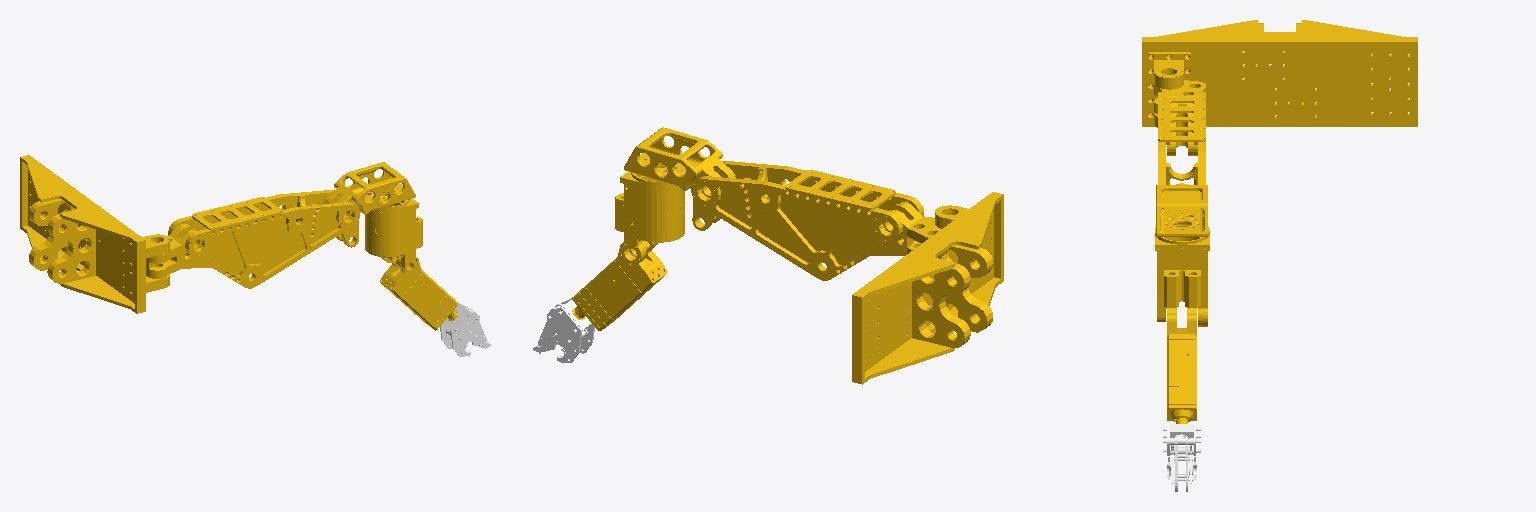
URDF robot description (manipulator_2):
<?xml version="1.0" ?>
<!-- =================================================================================== -->
<!-- |    This document was autogenerated by xacro from manipulator.xacro              | -->
<!-- |    EDITING THIS FILE BY HAND IS NOT RECOMMENDED                                 | -->
<!-- =================================================================================== -->
<robot name="manipulator_2">

  <link name="world"/>
  <joint name="world_joint" type="fixed">
    <parent link="world"/>
    <child link="base_link"/>
    <origin rpy="0.0 0.0 0.0" xyz="0.0 0.0 1.0"/>
  </joint>

  <material name="orange">
    <color rgba="1 0.8 0.1 1"/>
  </material>

  <!-- Base Link -->
  <link name="base_link">
    <collision>
      <origin rpy="0 -1.5707963267948966 0" xyz="0 0 0"/>
      <geometry>
        <mesh filename="package://moveit_resources_manipulator_2_description/meshes/original/base_link.stl"/>
      </geometry>
    </collision>
    <visual>
      <origin rpy="0 -1.5707963267948966 0" xyz="0 0 0"/>
      <geometry>
        <mesh filename="package://moveit_resources_manipulator_2_description/meshes/original/base_link.stl"/>
      </geometry>
      <material name="orange"/>
    </visual>
    <inertial>
      <origin rpy="0 -1.57 0" xyz="0 0 0.4"/>
      <mass value="5.7"/>
      <inertia ixx="0.13" ixy="0.0" ixz="0" iyy="0.012" iyz="0.0" izz="0.12"/>
    </inertial>
  </link>
  <!-- joint1 -->
  <joint name="j1" type="revolute">
    <parent link="base_link"/>
    <child link="l1"/>
    <origin rpy="0 -1.5707963267948966 0" xyz="0 0 0"/>
    <axis xyz="1 0 0"/>
    <limit effort="3000" lower="-0.47123889803846897" upper="0.6911503837897545" velocity="1.0"/>
    <dynamics damping="0.5" friction="120"/>
  </joint>

  <!-- camera_joint -->
  <joint name="jc" type="fixed">
    <parent link="base_link"/>
    <child link="camera"/>
    <origin rpy="-1.5707963267948966 0 -1.5707963267948966" xyz="0.0 0.3 -0.1"/>
  </joint>

  <!-- link_camera -->
  <link name="camera">
    <collision>
      <origin rpy="0 0 0" xyz="0 0 0"/>
      <geometry>
        <mesh filename="package://moveit_resources_manipulator_2_description/meshes/original/L515.stl"/>
      </geometry>
    </collision>
    <visual>
      <origin rpy="0 0 0" xyz="0 0 0"/>
      <geometry>
        <mesh filename="package://moveit_resources_manipulator_2_description/meshes/original/L515.stl"/>
      </geometry>
      <material name="orange"/>
    </visual>
  </link>

  <!-- link1 -->
  <link name="l1">
    <collision>
      <origin rpy="0 0 0" xyz="0 0 0"/>
      <geometry>
        <mesh filename="package://moveit_resources_manipulator_2_description/meshes/original/l1.stl"/>
      </geometry>
    </collision>
    <visual>
      <origin rpy="0 0 0" xyz="0 0 0"/>
      <geometry>
        <mesh filename="package://moveit_resources_manipulator_2_description/meshes/original/l1.stl"/>
      </geometry>
      <material name="orange"/>
    </visual>
    <inertial>
      <origin rpy="0 0 0" xyz="0 0 0"/>
      <mass value="1.2778"/>
      <inertia ixx="0.0046902" ixy="0" ixz="-0.0" iyy="0.0047235" iyz="0.0" izz="0.00020263"/>
    </inertial>
  </link>
  <!-- joint2 -->
  <joint name="j2" type="revolute">
    <parent link="l1"/>
    <child link="l2"/>
    <origin rpy="1.5707963267948966 1.5707963267948966 0" xyz="0 0.032 -0.1273"/>
    <axis xyz="0 0 1"/>
    <limit effort="3000" lower="-0.17435839227423353" upper="1.1341149479459154" velocity="1.0"/>
    <dynamics damping="0.5" friction="80"/>
  </joint>

  <!-- link2 -->
  <link name="l2">
    <collision>
      <origin rpy="0 0 0" xyz="0 0 0"/>
      <geometry>
        <mesh filename="package://moveit_resources_manipulator_2_description/meshes/original/l2.stl"/>
      </geometry>
    </collision>
    <visual>
      <origin rpy="0 0 0" xyz="0 0 0"/>
      <geometry>
        <mesh filename="package://moveit_resources_manipulator_2_description/meshes/original/l2.stl"/>
      </geometry>
      <material name="orange"/>
    </visual>
    <inertial>
      <origin rpy="0 0 0" xyz="0.24332 -0.038385 0"/>
      <mass value="2.7848"/>
      <inertia ixx="0.0088113" ixy="0.0" ixz="0.0" iyy="0.037743" iyz="-0.0" izz="0.034608"/>
    </inertial>
  </link>
  <!-- joint3 -->
  <joint name="j3" type="revolute">
    <parent link="l2"/>
    <child link="l3"/>
    <origin rpy="0 0 0" xyz="0.5116 -0.025 0"/>
    <axis xyz="0 0 1"/>
    <limit effort="3000" lower="-0.7319910882864218" upper="0.3675663404700058" velocity="1.0"/>
    <dynamics damping="0.5" friction="80"/>
  </joint>

  <!-- link3 -->
  <link name="l3">
    <collision>
      <origin rpy="0 0 0" xyz="0 0 0"/>
      <geometry>
        <mesh filename="package://moveit_resources_manipulator_2_description/meshes/original/l3.stl"/>
      </geometry>
    </collision>
    <visual>
      <origin rpy="0 0 0" xyz="0 0 0"/>
      <geometry>
        <mesh filename="package://moveit_resources_manipulator_2_description/meshes/original/l3.stl"/>
      </geometry>
      <material name="orange"/>
    </visual>
    <inertial>
      <origin rpy="0 0 0" xyz="0.062429 0.0032856 -0.00043376"/>
      <mass value="1.1648"/>
      <inertia ixx="0.00039119" ixy="0.0" ixz="0.0" iyy="0.00026141" iyz="0.0" izz="0.000603"/>
    </inertial>
  </link>
  
  <!-- joint4 -->
  <joint name="j4" type="revolute">
    <parent link="l3"/>
    <child link="l4"/>
    <origin rpy="-1.5707963267948966 3.14 0" xyz="0.161 0 0"/>
    <axis xyz="0 0 -1"/>
    <limit effort="3000" lower="-2.0074777056438777" upper="1.0995574287564276" velocity="1.0"/>
    <dynamics damping="0.5" friction="80"/>
  </joint>

  <!-- link4 -->
  <link name="l4">
    <collision>
      <origin rpy="0 0 0" xyz="0 0 0"/>
      <geometry>
        <mesh filename="package://moveit_resources_manipulator_2_description/meshes/original/l4.stl"/>
      </geometry>
    </collision>
    <visual>
      <origin rpy="0 0 0" xyz="0 0 0"/>
      <geometry>
        <mesh filename="package://moveit_resources_manipulator_2_description/meshes/original/l4.stl"/>
      </geometry>
      <material name="orange"/>
    </visual>
    <inertial>
      <origin rpy="0 0 0" xyz="-0.018965 -0.0039484 -0.10219"/>
      <mass value="2.2356"/>
      <inertia ixx="0.005307" ixy="-0.0" ixz="0.0" iyy="0.0050788" iyz="0.0" izz="0.0011551"/>
    </inertial>
  </link>
  <!-- joint5 -->
  <joint name="j5" type="revolute">
    <parent link="l4"/>
    <child link="l5"/>
    <origin rpy="1.5707963267948966 0 0" xyz="-0.04445 0 -0.212"/>
    <axis xyz="0 0 1"/>
    <limit effort="3000" lower="-1.413716694115407" upper="-0.06911503837897544" velocity="1.0"/>
    <dynamics damping="0.5" friction="80"/>
  </joint>

  <!-- link5 -->
  <link name="l5">
    <collision>
      <origin rpy="0 0 0" xyz="0 0 0"/>
      <geometry>
        <mesh filename="package://moveit_resources_manipulator_2_description/meshes/original/l5.stl"/>
      </geometry>
    </collision>
    <visual>
      <origin rpy="0 0 0" xyz="0 0 0"/>
      <geometry>
        <mesh filename="package://moveit_resources_manipulator_2_description/meshes/original/l5.stl"/>
      </geometry>
      <material name="orange"/>
    </visual>
    <inertial>
      <origin rpy="0 0 0" xyz="0.033318 -0.13193 -9.0087E-05"/>
      <mass value="1.8032"/>
      <inertia ixx="0.0078726" ixy="0" ixz="0" iyy="0.0002976" iyz="0" izz="0.0081459"/>
    </inertial>
  </link>
  <!-- joint6 -->
  <joint name="j6" type="continuous">
    <parent link="l5"/>
    <child link="l6"/>
    <origin rpy="-1.5707963267948966 0 0" xyz="0.01846 -0.336 0"/>
    <axis xyz="0 0 1"/>
    <dynamics damping="0.5" friction="80"/>
  </joint>

  <!-- link6 -->
  <link name="l6">
    <collision>
      <origin rpy="0 0 0" xyz="0 0 0"/>
      <geometry>
        <box size="0.001 0.001 0.001"/>
      </geometry>
    </collision>
    <visual>
      <origin rpy="0 0 0" xyz="0 0 0"/>
      <geometry>
        <box size="0.001 0.001 0.001"/>
      </geometry>
      <material name="orange"/>
    </visual>
    <inertial>
      <origin rpy="0 0 0" xyz="0.0083277 -0.0005493 -0.0059114"/>
      <mass value="0.2092"/>
      <inertia ixx="0.1" ixy="0.0" ixz="0.0" iyy="0.1" iyz="0.0" izz="0.1"/>
    </inertial>
  </link>

  <link name="hand">
    <inertial>
      <mass value="1"/>
      <origin rpy="0 0 0" xyz="0 0 0"/>
      <inertia ixx="0.5" ixy="0.0" ixz="0.0" iyy="0.5" iyz="0.0" izz="0.5"/>
    </inertial>
    <visual>
      <origin rpy="0 0 0" xyz="0 0 0"/>
      <geometry>
        <mesh filename="package://moveit_resources_manipulator_2_description/meshes/original/gripper.stl"/>
      </geometry>
      <material name="">
        <color rgba="1 1 1 1"/>
      </material>
    </visual>
    <collision>
      <origin rpy="0 0 0" xyz="0 0 0"/>
      <geometry>
        <mesh filename="package://moveit_resources_manipulator_2_description/meshes/original/gripper.stl"/>
      </geometry>
    </collision>
  </link>
  <link name="leftfinger">
    <inertial>
      <mass value="0.5"/>
      <origin rpy="0 0 0" xyz="0 0 0"/>
      <inertia ixx="0.1" ixy="0.0" ixz="0.0" iyy="0.1" iyz="0.0" izz="0.1"/>
    </inertial>
    <visual>
      <origin rpy="0 0 0" xyz="0 0 0"/>
      <geometry>
        <mesh filename="package://moveit_resources_manipulator_2_description/meshes/original/f1.stl"/>
      </geometry>
      <material name="">
        <color rgba="1 1 1 1"/>
      </material>
    </visual>
    <collision>
      <origin rpy="0 0 0" xyz="0 0 0"/>
      <geometry>
        <mesh filename="package://moveit_resources_manipulator_2_description/meshes/original/f1.stl"/>
      </geometry>
    </collision>
  </link>
  <link name="rightfinger">
    <inertial>
      <mass value="0.5"/>
      <origin rpy="0 0 0" xyz="0 0 0"/>
      <inertia ixx="0.1" ixy="0.0" ixz="0.0" iyy="0.1" iyz="0.0" izz="0.1"/>
    </inertial>
    <visual>
      <origin rpy="0 0 0" xyz="0 0 0"/>
      <geometry>
        <mesh filename="package://moveit_resources_manipulator_2_description/meshes/original/f2.stl"/>
      </geometry>
      <material name="">
        <color rgba="1 1 1 1"/>
      </material>
    </visual>
    <collision>
      <origin rpy="0 0 0" xyz="0 0 0"/>
      <geometry>
        <mesh filename="package://moveit_resources_manipulator_2_description/meshes/original/f2.stl"/>
      </geometry>
    </collision>
  </link>
  <joint name="finger_joint1" type="revolute">
    <parent link="hand"/>
    <child link="leftfinger"/>
    <origin rpy="1.5707963267948966 0 3.141592653589793" xyz="0.04 0 0"/>
    <axis xyz="0 0 1"/>
    <limit effort="40" lower="-0.5" upper="0.1" velocity="3"/>
    <dynamics damping="0.9" friction="5"/>
  </joint>

  <joint name="finger_joint2" type="revolute">
    <parent link="hand"/>
    <child link="rightfinger"/>
    <origin rpy="1.5707963267948966 0 0" xyz="-0.04 0 0"/>
    <axis xyz="0 0 1"/>
    <limit effort="40" lower="-0.5" upper="0.1" velocity="3"/>
    <dynamics damping="0.9" friction="5"/>
  </joint>


  <!-- manipulator/gripper joint -->
  <joint name="hand_joint" type="fixed">
    <parent link="l6"/>
    <child link="hand"/>
    <origin rpy="0 0 0" xyz="0 0 0"/>
  </joint>

</robot>

--- Render facts (derived) ---
Views: 3 orthographic renders of the robot side by side, from view 1: azimuth 30°, elevation 25°; view 2: azimuth 150°, elevation 25°; view 3: azimuth 270°, elevation 25°.
Model manipulator_2 with 12 links and 11 joints (7 revolute, 1 continuous, 3 fixed), rooted at world, posed joints at zero except 1 at the middle of their limits (j5 = -0.7414).
Links seen in each view (by area): view 1: base_link, l2, l4, l3, l5, l1, hand; view 2: base_link, l2, l4, l3, l5, hand, l1; view 3: base_link, l4, l5, l2, l3, l1, hand.
Boxes of the visible links, x1=… form: base_link: x1=20, y1=155, x2=169, y2=313; l2: x1=168, y1=190, x2=359, y2=288; l4: x1=365, y1=192, x2=422, y2=271; l3: x1=324, y1=162, x2=415, y2=247; l5: x1=380, y1=255, x2=457, y2=330; l1: x1=146, y1=224, x2=211, y2=278; hand: x1=440, y1=303, x2=479, y2=356; base_link: x1=852, y1=192, x2=1003, y2=384; l2: x1=691, y1=161, x2=923, y2=280; l4: x1=615, y1=163, x2=684, y2=265; l3: x1=624, y1=127, x2=735, y2=230; l5: x1=572, y1=240, x2=666, y2=330; hand: x1=547, y1=298, x2=594, y2=362; l1: x1=871, y1=202, x2=940, y2=255; base_link: x1=1142, y1=20, x2=1417, y2=127; l4: x1=1155, y1=224, x2=1209, y2=326; l5: x1=1167, y1=307, x2=1196, y2=423; l2: x1=1158, y1=92, x2=1205, y2=184; l3: x1=1156, y1=185, x2=1207, y2=236; l1: x1=1154, y1=80, x2=1205, y2=155; hand: x1=1163, y1=424, x2=1200, y2=479.
Bounding box of the posed robot: 1.38 × 0.687 × 0.6697 m (x, y, z).
Meshes: 10 distinct files referenced, 9 mesh visuals loaded (9 binary STL); not drawn: 1 (reference not matched to a file when rendering).
